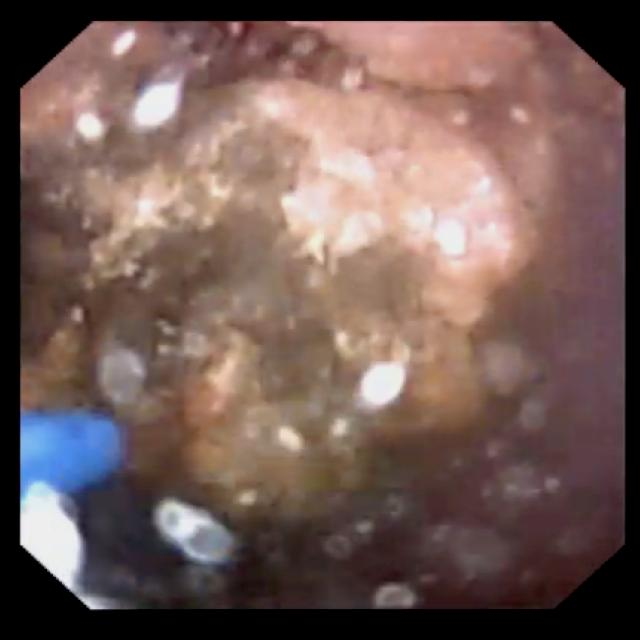fiber: (21, 415, 121, 491)
stone: (37, 69, 563, 520), (296, 23, 528, 85)
